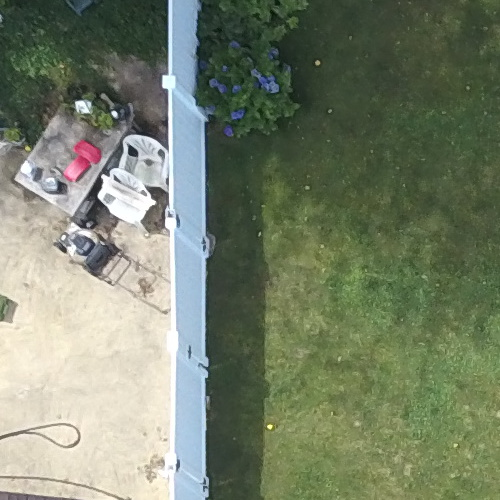flower pot: (106, 101, 132, 125)
